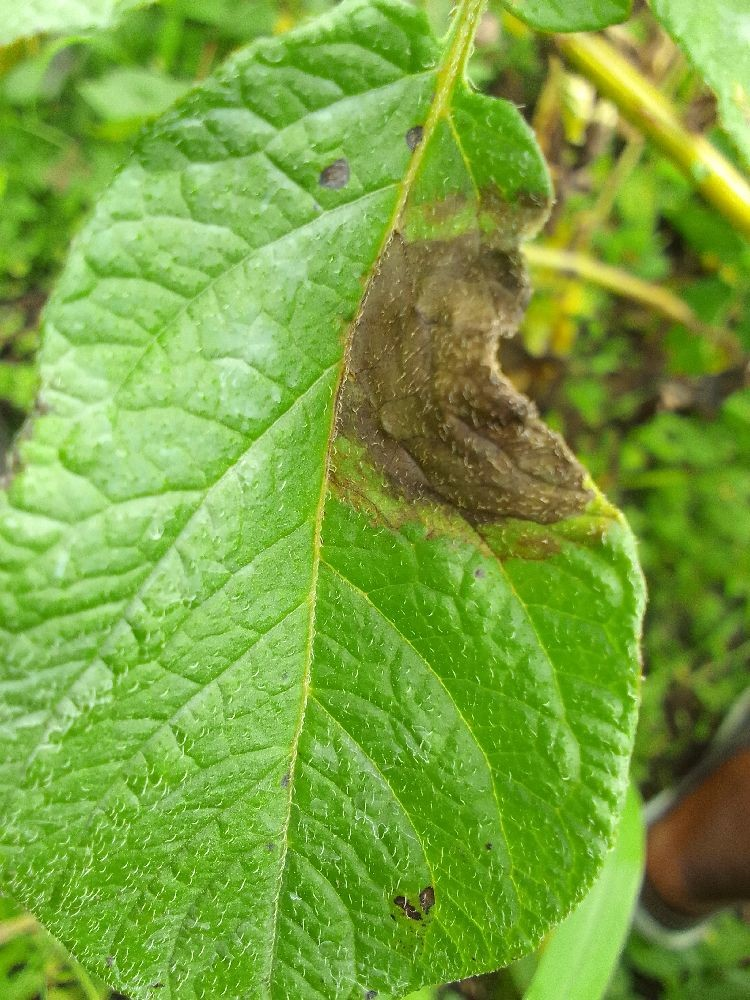late_blight: (310, 0, 734, 571), (592, 557, 750, 983)
